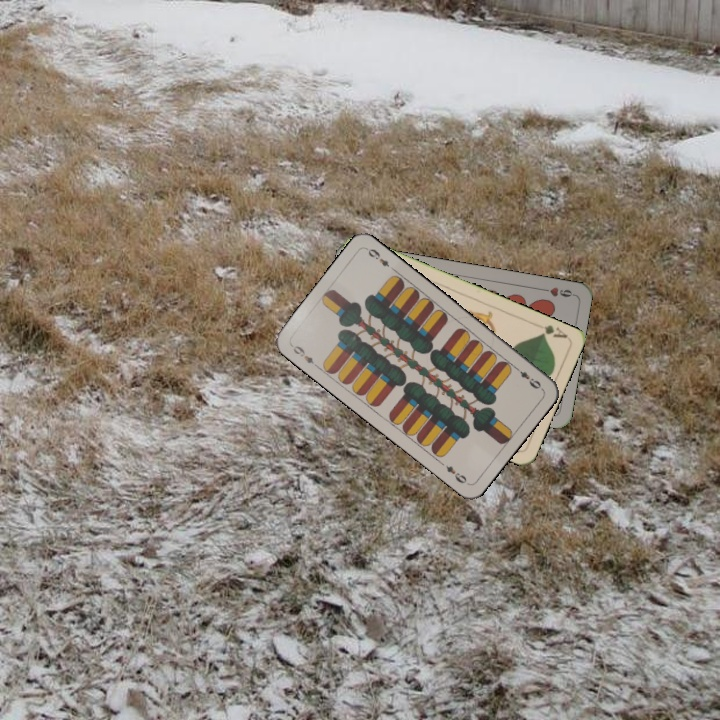E9: (510, 362, 544, 392), (287, 341, 321, 370)
GA: (536, 321, 570, 341)
H9: (536, 283, 576, 300)
